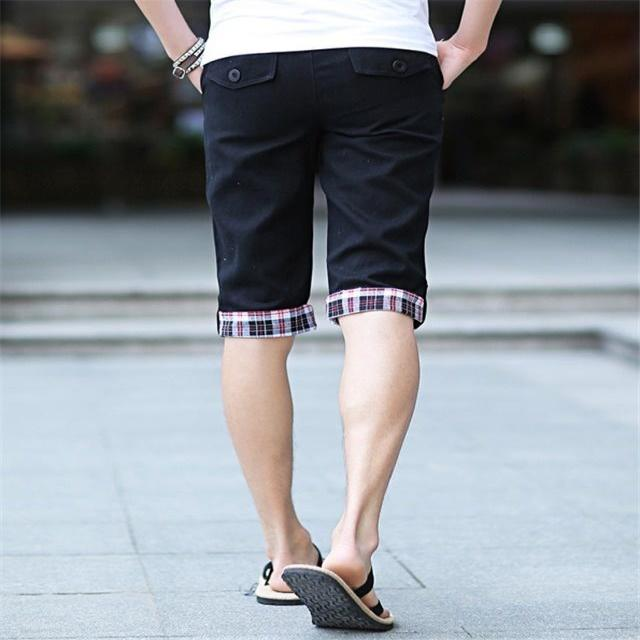shorts: (145, 29, 482, 390)
